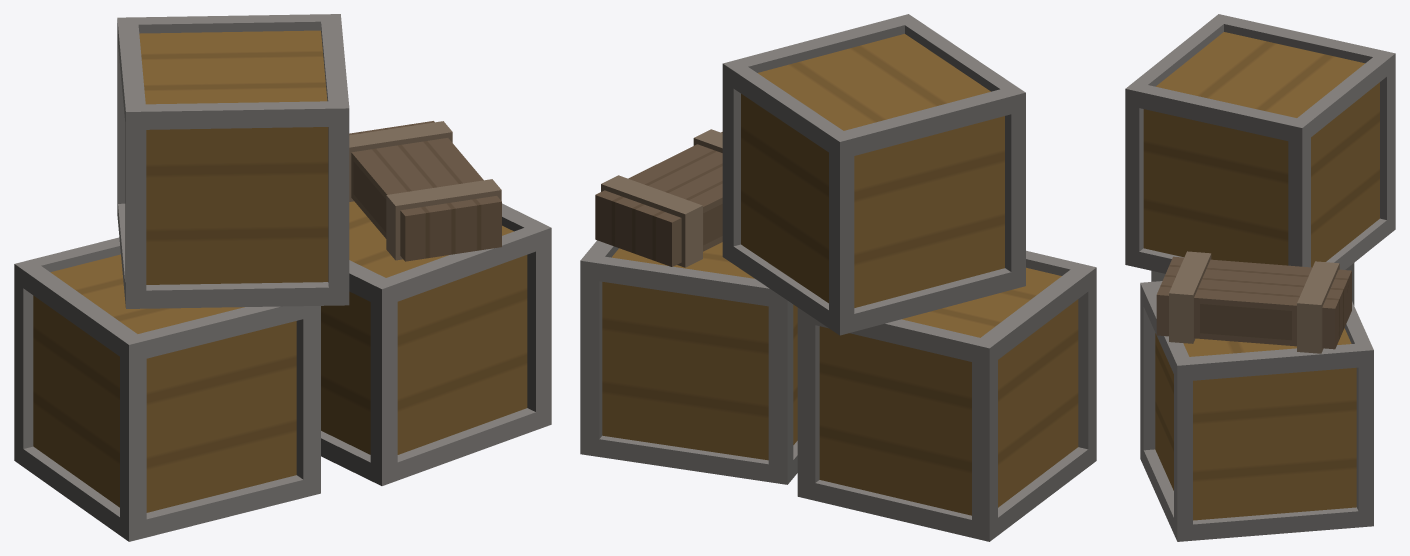
Rendered from CrateStack.gltf.
3 renders of one model, left to right at view 1: azimuth 30°, elevation 25°; view 2: azimuth 150°, elevation 25°; view 3: azimuth 270°, elevation 25°, orthographic. The views are drawn at different scales.
Visible parts, largest first — view 1: SF_Prop_CrateStack_01; view 2: SF_Prop_CrateStack_01; view 3: SF_Prop_CrateStack_01.
Boxes of the visible parts, x1=… form: SF_Prop_CrateStack_01: x1=14, y1=14, x2=551, y2=541; SF_Prop_CrateStack_01: x1=580, y1=14, x2=1096, y2=541; SF_Prop_CrateStack_01: x1=1125, y1=14, x2=1395, y2=541.
Bounding box in the file's own units: 0.0197 × 0.0169 × 0.0117.
Materials: 1 (1 with a texture image).
